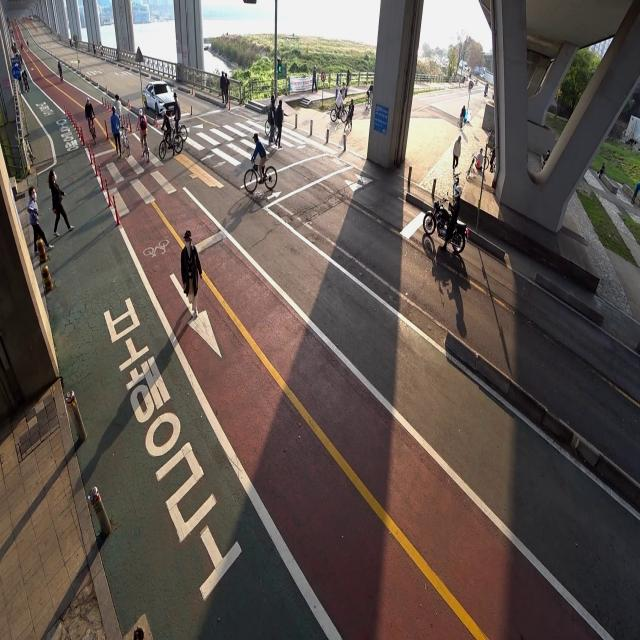Car: (143, 74, 178, 116)
Motorcycle: (421, 178, 467, 252)
